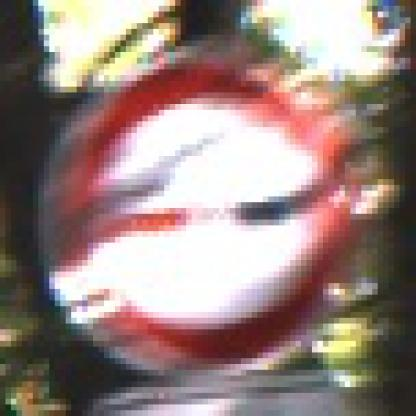No Overtaking: (34, 42, 384, 383)
